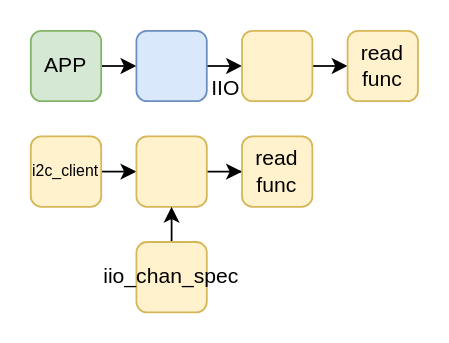
Some shapes in this 449 by 343 pixel diagram are drawn without their labels. Each missing label, with the box of its shape:
iio_dev: (135, 135, 207, 207)
Kernel Driver: (240, 29, 312, 101)
node: (135, 29, 207, 101)
